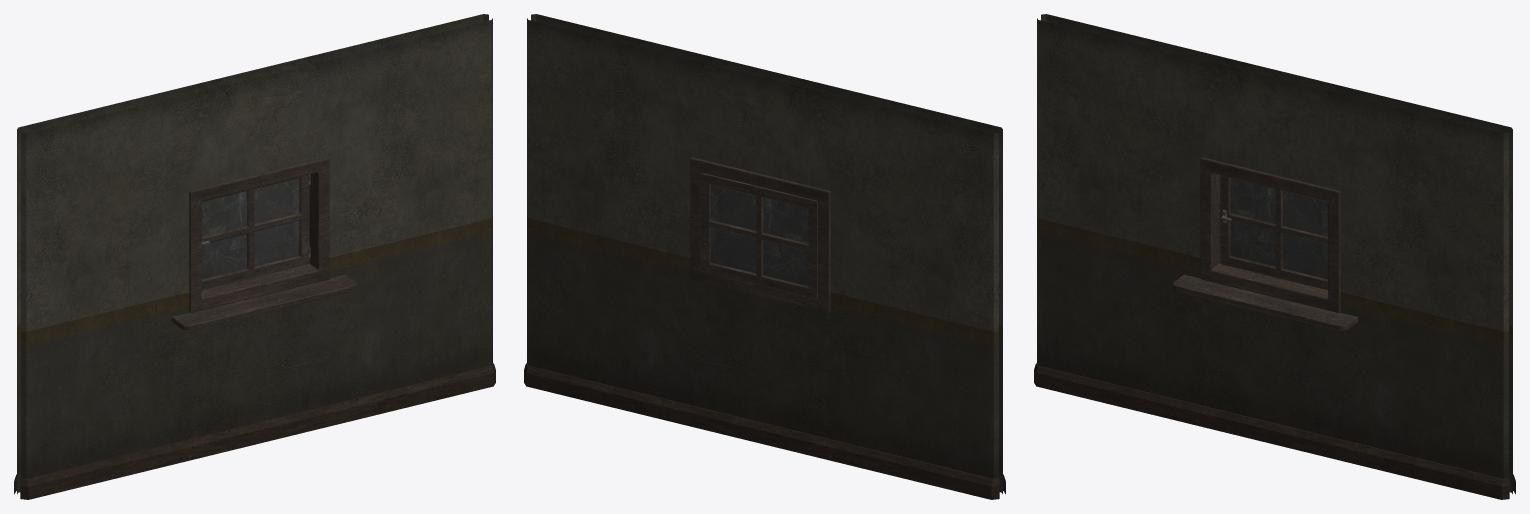
The model's file is window_1_single.fbx.
3 views of the same model, side by side, from view 1: azimuth 30°, elevation 25°; view 2: azimuth 150°, elevation 25°; view 3: azimuth 330°, elevation 25° (orthographic).
Visible parts, largest first — view 1: window_1_single; view 2: window_1_single; view 3: window_1_single.
Part boxes in pixels (bbox=[...]): window_1_single: bbox=[14, 14, 495, 499]; window_1_single: bbox=[524, 14, 1005, 499]; window_1_single: bbox=[1034, 14, 1515, 499].
Bounding box in the file's own units: 409 × 300 × 35.
